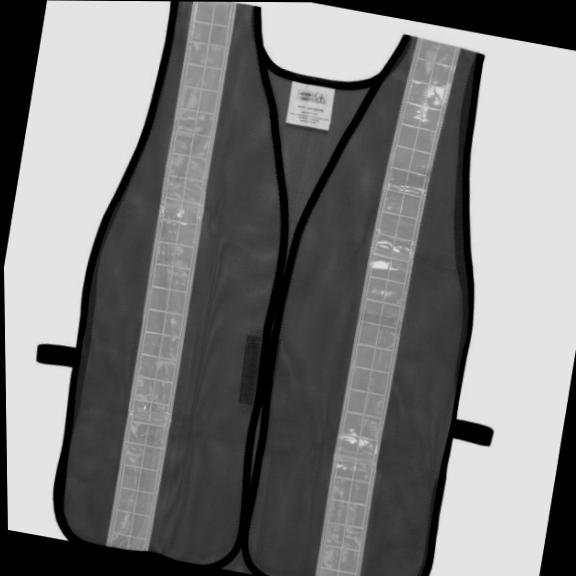safety_vest: (37, 0, 527, 576)
